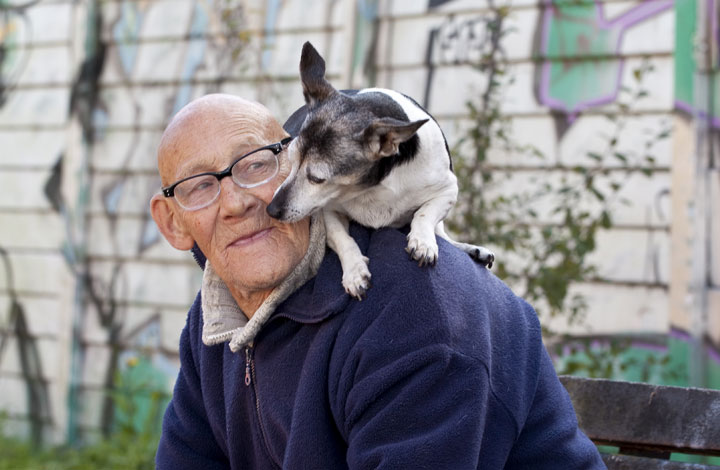pet: (268, 74, 442, 267)
